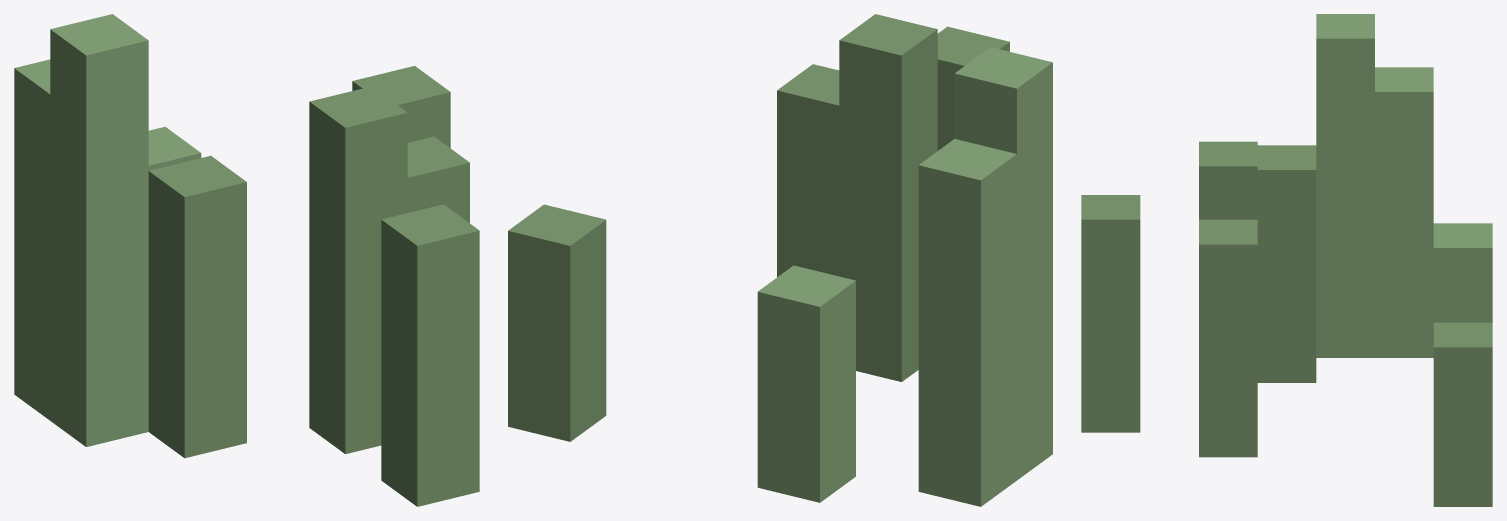
File: berro_02.glb
3 views of the same model, side by side, from view 1: azimuth 30°, elevation 25°; view 2: azimuth 150°, elevation 25°; view 3: azimuth 270°, elevation 25° (orthographic). The views are drawn at different scales.
Parts seen in each view (by area): view 1: berro_02; view 2: berro_02; view 3: berro_02.
Part boxes in pixels (x1=…): berro_02: x1=14, y1=14, x2=479, y2=506; berro_02: x1=508, y1=14, x2=1052, y2=506; berro_02: x1=1081, y1=14, x2=1492, y2=506.
Size of the model in its own units: 0.7 by 0.6 by 0.7.
